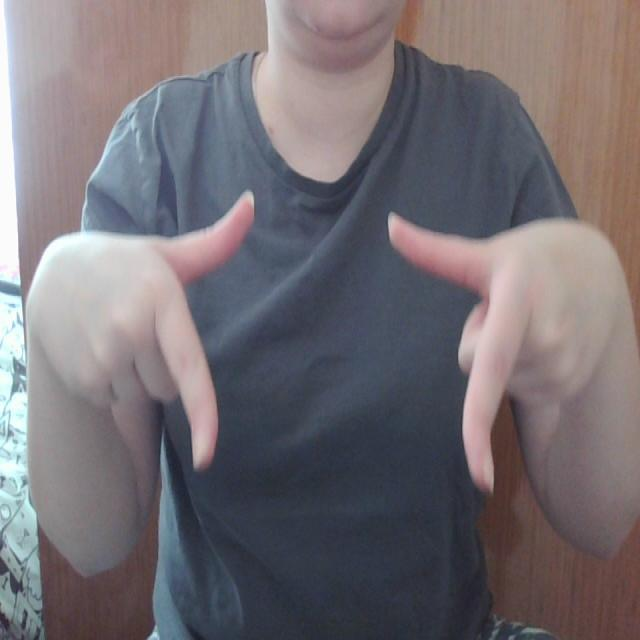Nerede: (153, 185, 528, 502)
